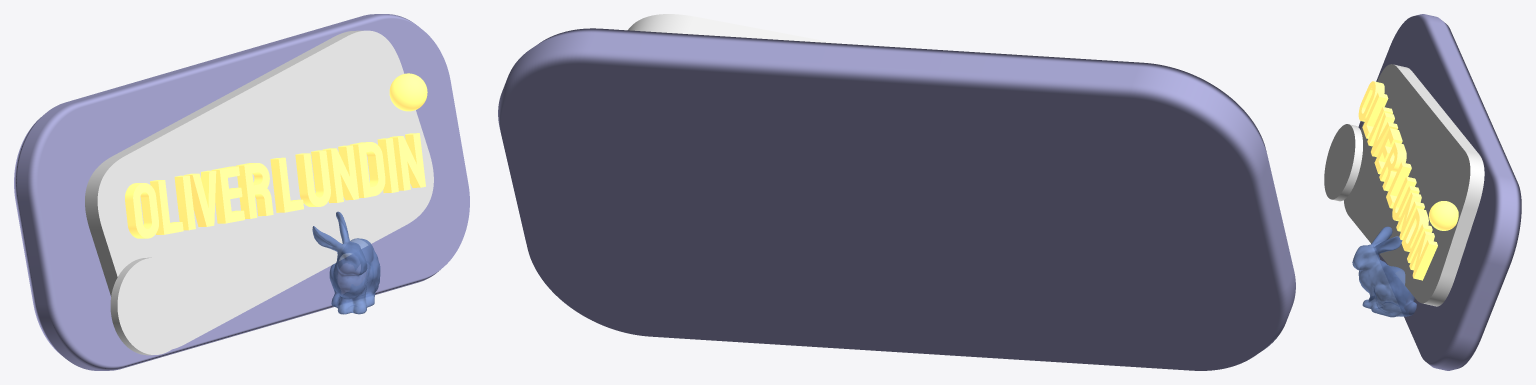
Rendered from board2.glb.
The picture shows the model from 3 angles, left to right: view 1: azimuth 30°, elevation 25°; view 2: azimuth 150°, elevation 25°; view 3: azimuth 270°, elevation 25°; orthographic projection. The views are drawn at different scales.
Visible parts, largest first — view 1: Rectangle 2, Rectangle, Text, Ellipse, Bunny, Sphere; view 2: Rectangle, Rectangle 2; view 3: Rectangle, Rectangle 2, Text, Bunny, Ellipse, Sphere.
Part boxes in pixels (x1,y1,x2,y2): Rectangle 2: [85, 30, 433, 349]; Rectangle: [14, 14, 469, 370]; Text: [125, 133, 425, 238]; Ellipse: [110, 257, 191, 355]; Bunny: [312, 211, 380, 314]; Sphere: [389, 73, 427, 111]; Rectangle: [498, 28, 1295, 370]; Rectangle 2: [628, 14, 837, 43]; Rectangle: [1358, 14, 1521, 370]; Rectangle 2: [1343, 64, 1484, 306]; Text: [1358, 81, 1437, 280]; Bunny: [1352, 226, 1416, 317]; Ellipse: [1324, 124, 1362, 201]; Sphere: [1429, 201, 1458, 230].
Bounding box in the file's own units: 5.7 × 3.01 × 2.56.
